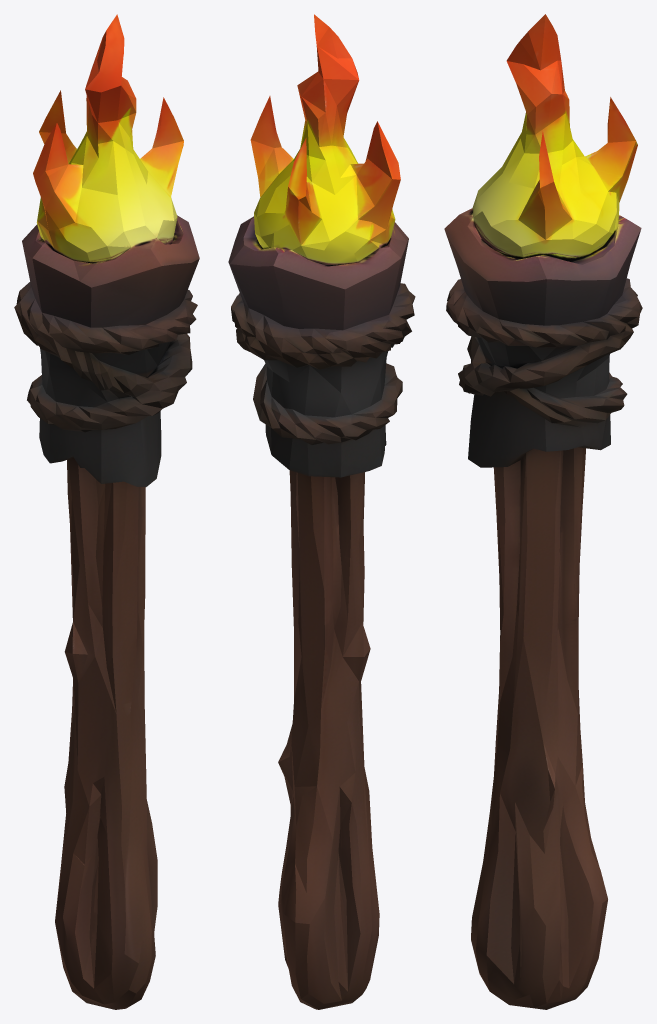
Rendered from base_basic_pbr.fbx.
3 renders of one model, left to right at view 1: azimuth 30°, elevation 25°; view 2: azimuth 150°, elevation 25°; view 3: azimuth 270°, elevation 25°, orthographic.
Visible parts, largest first — view 1: model; view 2: model; view 3: model.
Part boxes in pixels (bbox=[...]): model: bbox=[14, 14, 199, 1009]; model: bbox=[228, 14, 415, 1009]; model: bbox=[444, 14, 642, 1009].
Size of the model in its own units: 28.05 by 166 by 30.08.
Materials: 1 (1 with a texture image).
